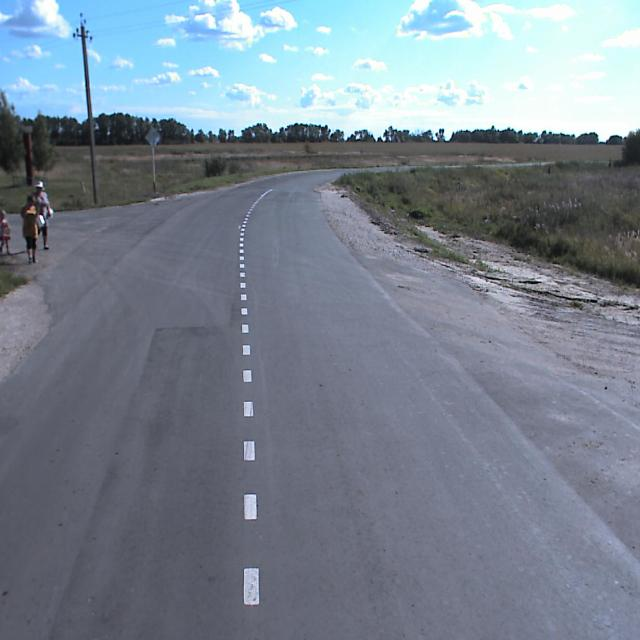road: (0, 166, 639, 639), (8, 214, 25, 251)
